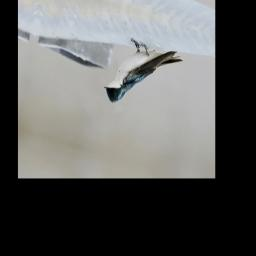Swallow: (100, 30, 186, 122)
